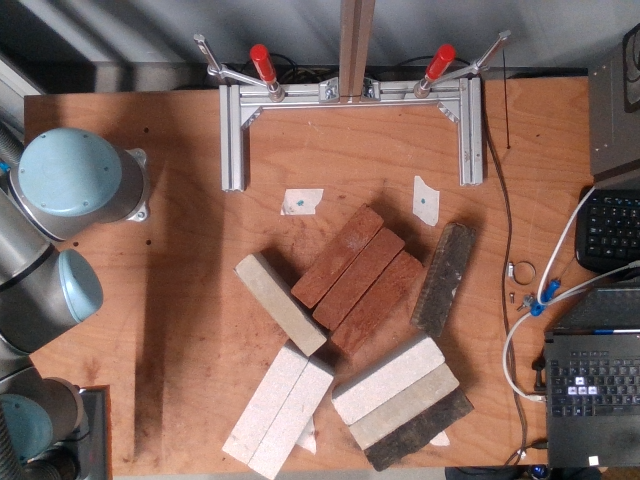brick-side: (332, 253, 422, 354), (313, 229, 403, 329), (294, 207, 384, 306), (252, 365, 332, 476), (336, 341, 441, 424), (353, 367, 458, 447), (227, 350, 304, 459), (368, 392, 470, 470), (239, 259, 322, 353), (422, 230, 473, 331)
